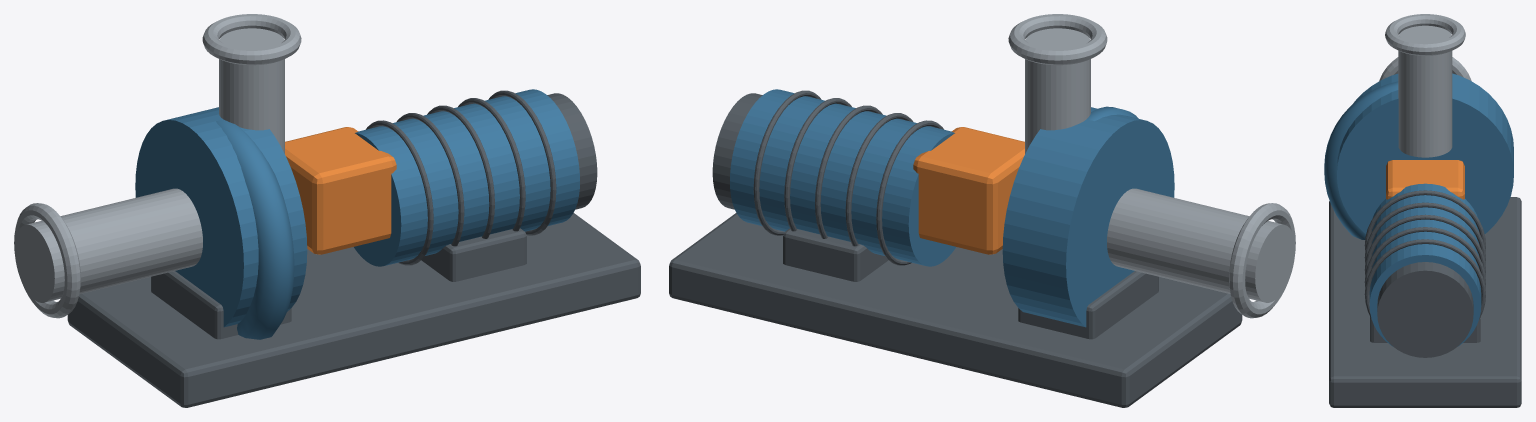
File: SLURRY-PUMP-01.glb
The picture shows the model from 3 angles, left to right: view 1: azimuth 30°, elevation 25°; view 2: azimuth 150°, elevation 25°; view 3: azimuth 270°, elevation 25°; orthographic projection. The views are drawn at different scales.
Parts seen in each view (by area): view 1: SLURRY-PUMP-01_BASEPLATE, SLURRY-PUMP-01_MOTOR, SLURRY-PUMP-01_DETAIL_CASING_CORE, SLURRY-PUMP-01_SUCTION, SLURRY-PUMP-01, SLURRY-PUMP-01_DETAIL_COUPLING_GUARD, SLURRY-PUMP-01_DETAIL_VOLUTE_SPIRAL, SLURRY-PUMP-01_DISCHARGE, SLURRY-PUMP-01_DETAIL_DISCHARGE_FLANGE, SLURRY-PUMP-01_DETAIL_SUCTION_FLANGE, SLURRY-PUMP-01_MOTOR_ENDCAP; view 2: SLURRY-PUMP-01_BASEPLATE, SLURRY-PUMP-01_DETAIL_CASING_CORE, SLURRY-PUMP-01_MOTOR, SLURRY-PUMP-01_SUCTION, SLURRY-PUMP-01, SLURRY-PUMP-01_DETAIL_COUPLING_GUARD, SLURRY-PUMP-01_DISCHARGE, SLURRY-PUMP-01_DETAIL_DISCHARGE_FLANGE, SLURRY-PUMP-01_DETAIL_SUCTION_FLANGE, SLURRY-PUMP-01_MOTOR_ENDCAP; view 3: SLURRY-PUMP-01_BASEPLATE, SLURRY-PUMP-01_DETAIL_CASING_CORE, SLURRY-PUMP-01_MOTOR_ENDCAP, SLURRY-PUMP-01_MOTOR, SLURRY-PUMP-01_DISCHARGE, SLURRY-PUMP-01, SLURRY-PUMP-01_DETAIL_VOLUTE_SPIRAL, SLURRY-PUMP-01_DETAIL_COUPLING_GUARD, SLURRY-PUMP-01_DETAIL_DISCHARGE_FLANGE, SLURRY-PUMP-01_DETAIL_SUCTION_FLANGE.
Part boxes in pixels (left/top/right/bottom): SLURRY-PUMP-01_BASEPLATE: left=67, top=213, right=640, bottom=407; SLURRY-PUMP-01_MOTOR: left=354, top=89, right=579, bottom=266; SLURRY-PUMP-01_DETAIL_CASING_CORE: left=135, top=107, right=307, bottom=327; SLURRY-PUMP-01_SUCTION: left=14, top=188, right=202, bottom=302; SLURRY-PUMP-01: left=151, top=90, right=556, bottom=339; SLURRY-PUMP-01_DETAIL_COUPLING_GUARD: left=285, top=127, right=396, bottom=254; SLURRY-PUMP-01_DETAIL_VOLUTE_SPIRAL: left=216, top=119, right=294, bottom=339; SLURRY-PUMP-01_DISCHARGE: left=219, top=28, right=284, bottom=153; SLURRY-PUMP-01_DETAIL_DISCHARGE_FLANGE: left=202, top=14, right=301, bottom=65; SLURRY-PUMP-01_DETAIL_SUCTION_FLANGE: left=14, top=203, right=80, bottom=318; SLURRY-PUMP-01_MOTOR_ENDCAP: left=547, top=93, right=597, bottom=209; SLURRY-PUMP-01_BASEPLATE: left=669, top=213, right=1242, bottom=407; SLURRY-PUMP-01_DETAIL_CASING_CORE: left=1002, top=107, right=1174, bottom=327; SLURRY-PUMP-01_MOTOR: left=730, top=89, right=955, bottom=266; SLURRY-PUMP-01_SUCTION: left=1107, top=188, right=1295, bottom=302; SLURRY-PUMP-01: left=753, top=90, right=1158, bottom=339; SLURRY-PUMP-01_DETAIL_COUPLING_GUARD: left=913, top=127, right=1024, bottom=254; SLURRY-PUMP-01_DISCHARGE: left=1025, top=28, right=1090, bottom=153; SLURRY-PUMP-01_DETAIL_DISCHARGE_FLANGE: left=1008, top=14, right=1107, bottom=65; SLURRY-PUMP-01_DETAIL_SUCTION_FLANGE: left=1229, top=203, right=1295, bottom=318; SLURRY-PUMP-01_MOTOR_ENDCAP: left=712, top=93, right=762, bottom=209; SLURRY-PUMP-01_BASEPLATE: left=1329, top=197, right=1521, bottom=407; SLURRY-PUMP-01_DETAIL_CASING_CORE: left=1337, top=73, right=1513, bottom=233; SLURRY-PUMP-01_MOTOR_ENDCAP: left=1377, top=262, right=1473, bottom=357; SLURRY-PUMP-01_MOTOR: left=1369, top=183, right=1481, bottom=346; SLURRY-PUMP-01_DISCHARGE: left=1398, top=25, right=1452, bottom=157; SLURRY-PUMP-01: left=1364, top=190, right=1485, bottom=342; SLURRY-PUMP-01_DETAIL_VOLUTE_SPIRAL: left=1324, top=81, right=1398, bottom=239; SLURRY-PUMP-01_DETAIL_COUPLING_GUARD: left=1386, top=160, right=1464, bottom=199; SLURRY-PUMP-01_DETAIL_DISCHARGE_FLANGE: left=1385, top=14, right=1465, bottom=55; SLURRY-PUMP-01_DETAIL_SUCTION_FLANGE: left=1379, top=57, right=1471, bottom=80.
Size of the model in its own units: 5.37 by 2.85 by 2.05.
